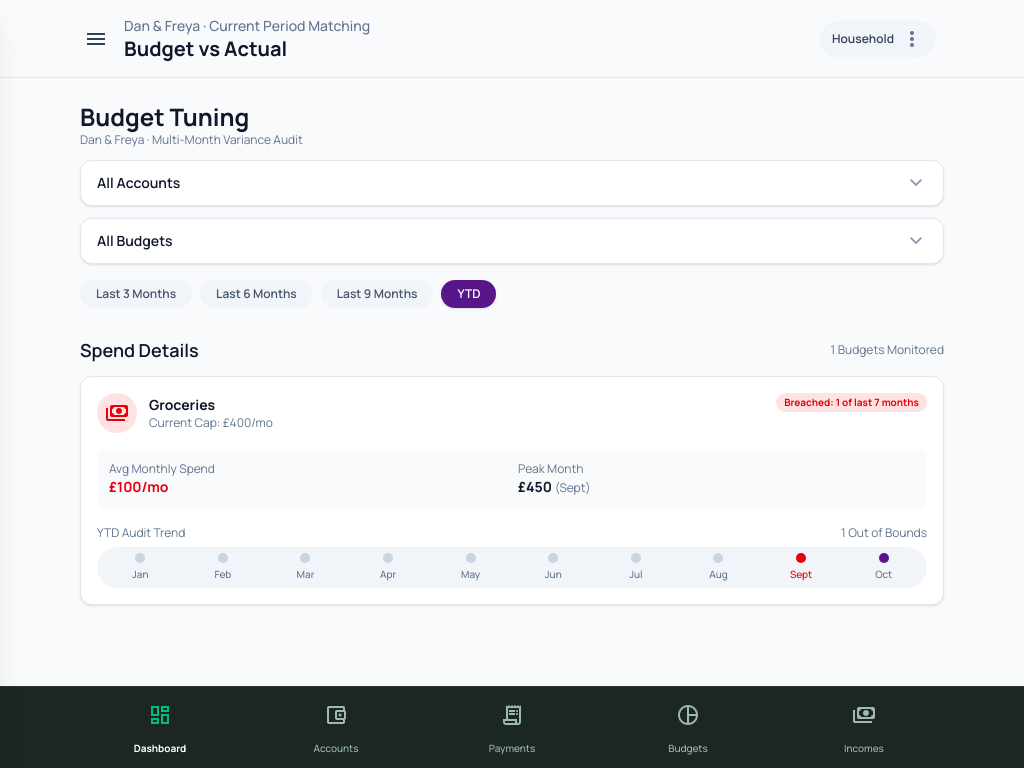
BudgetReviewPage › renders and populates Budget Spend vs Cap graph when a monthly budget is selected
Note: Select monthly budget
Select "Groceries" in the 2nd dropdown at (512, 241), box top-left (80, 218), bottom-right (944, 264)
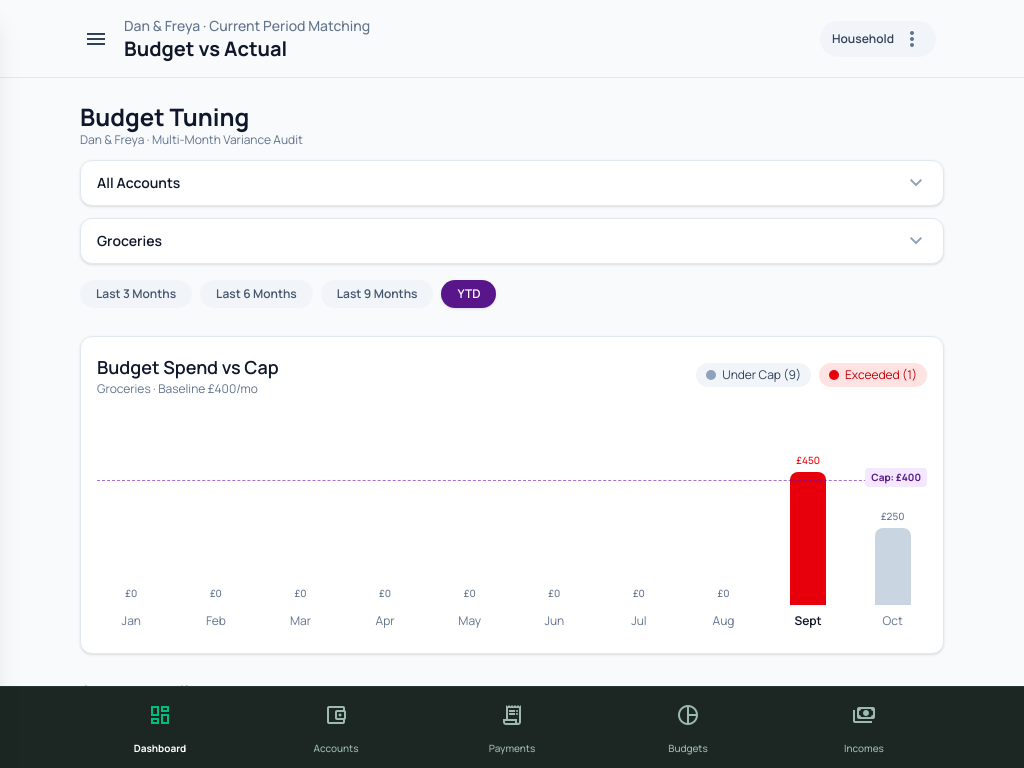
Expected: the heading "Budget Spend vs Cap" is shown, top-left (97, 353), bottom-right (279, 381)
Expected: the text "Groceries · Baseline £400/mo" is shown, top-left (97, 381), bottom-right (279, 397)
Expected: the text "Cap: £400" is shown, top-left (865, 468), bottom-right (927, 487)
